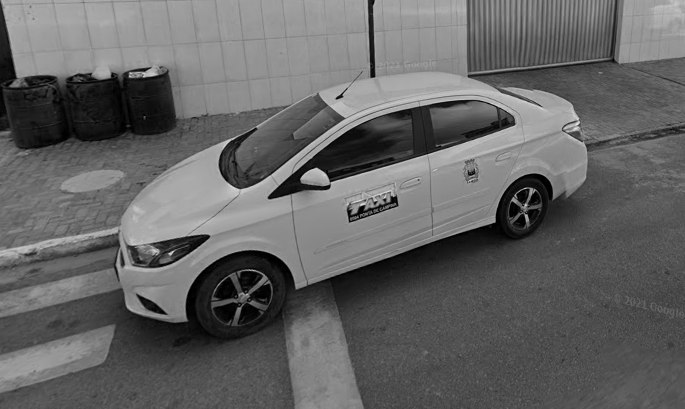car: (109, 71, 589, 343)
